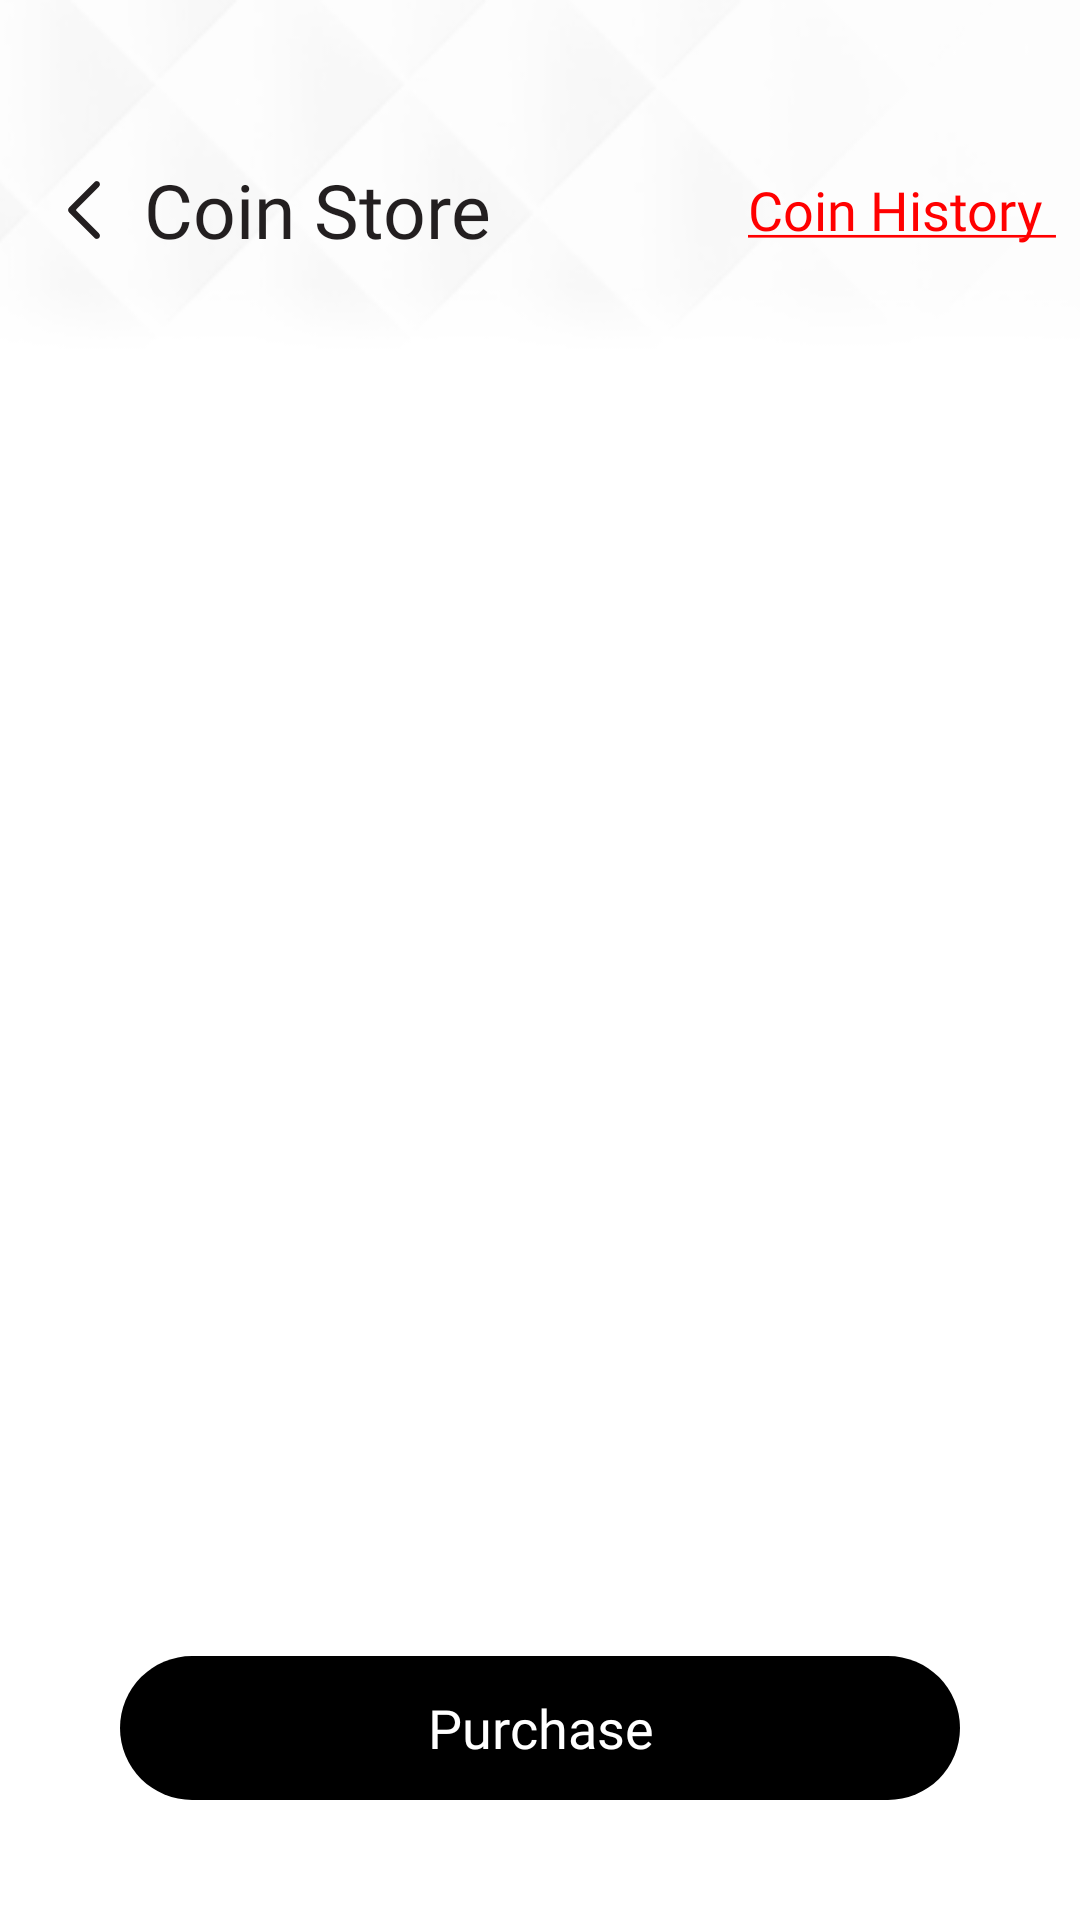

Icons on this 1080 x 1920 Android screen, each with its box as rect(x1, y1, x2, y2):
back: rect(68, 181, 100, 239)
